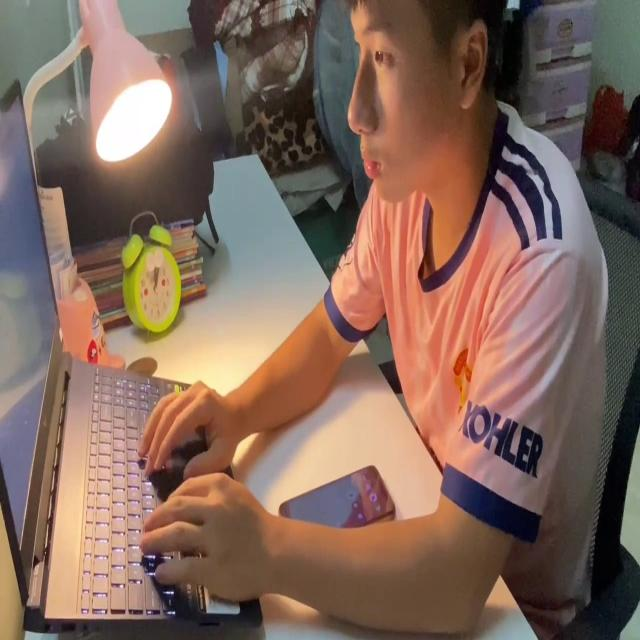laptop: (0, 72, 266, 637)
phone: (277, 457, 397, 533)
student: (139, 1, 606, 640)
